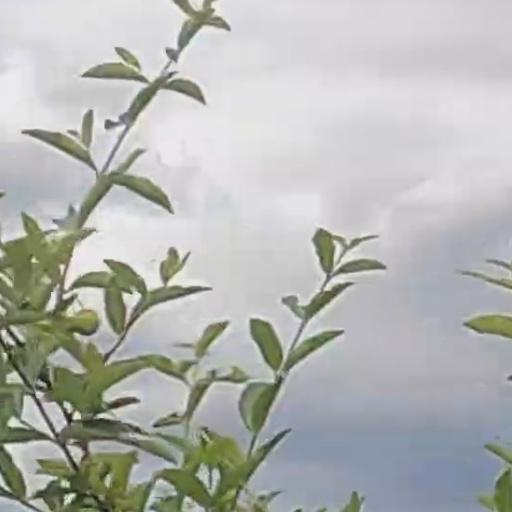acerola: (77, 314, 98, 333)
